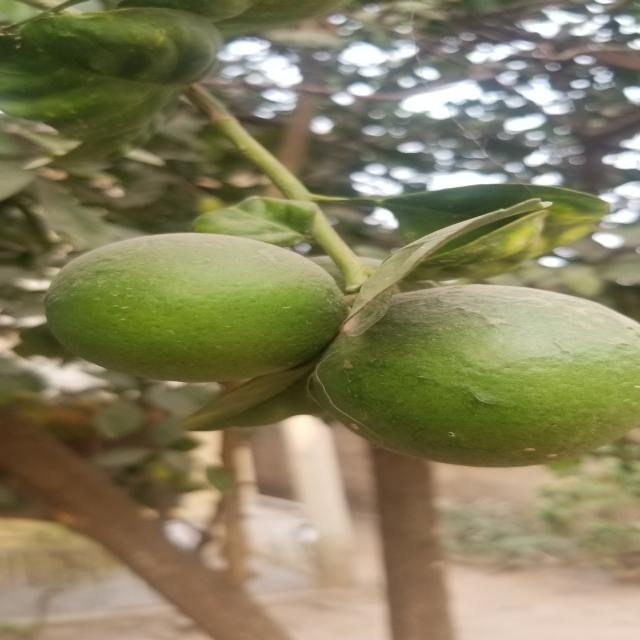agrume: (340, 283, 636, 476), (33, 231, 343, 393)
